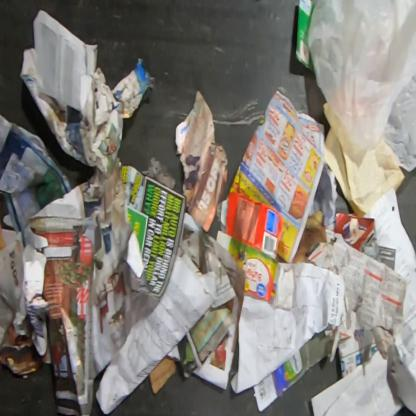cardboard: (149, 354, 177, 394)
soft_plastic: (308, 0, 415, 175)
